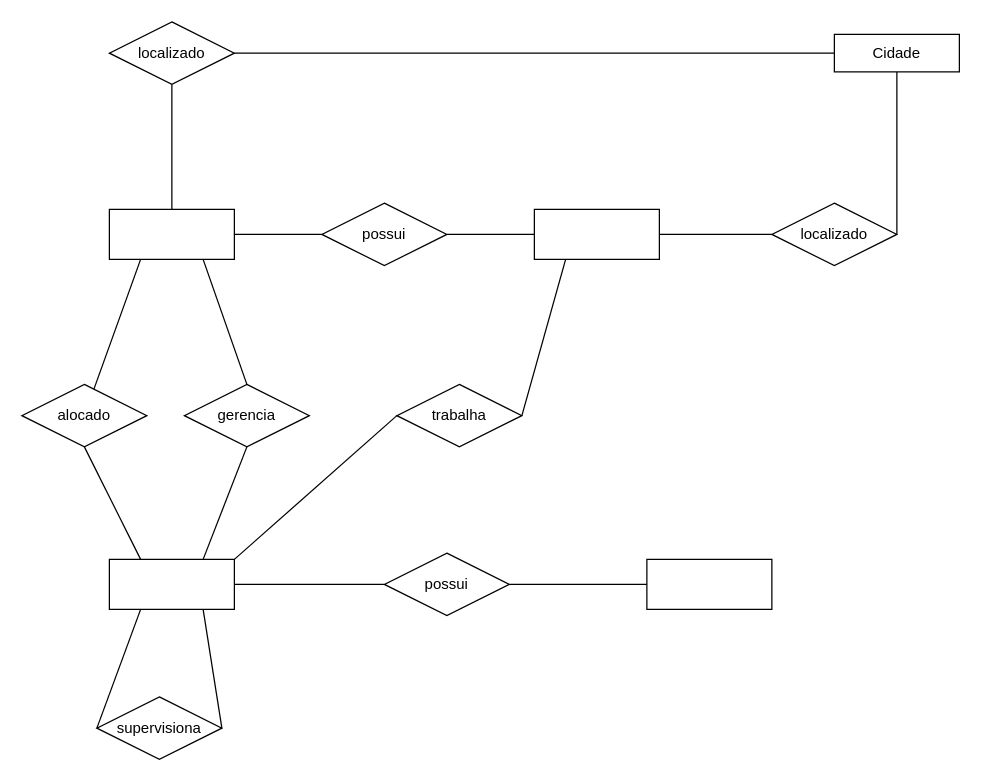
This 981x781 diagram has some shape labels left out. Each missing label, with the centre of its shape:
"Departamento" goes at (x=171, y=233).
"Dependente" goes at (x=709, y=583).
"Empregado" goes at (x=171, y=583).
"Projeto" goes at (x=596, y=233).
